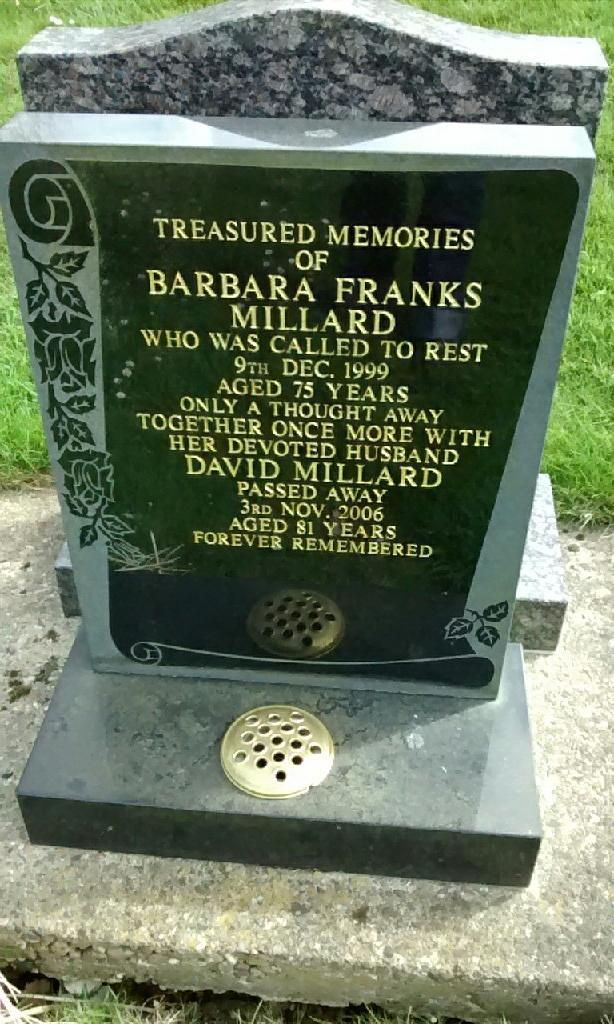upright: (0, 0, 614, 912)
